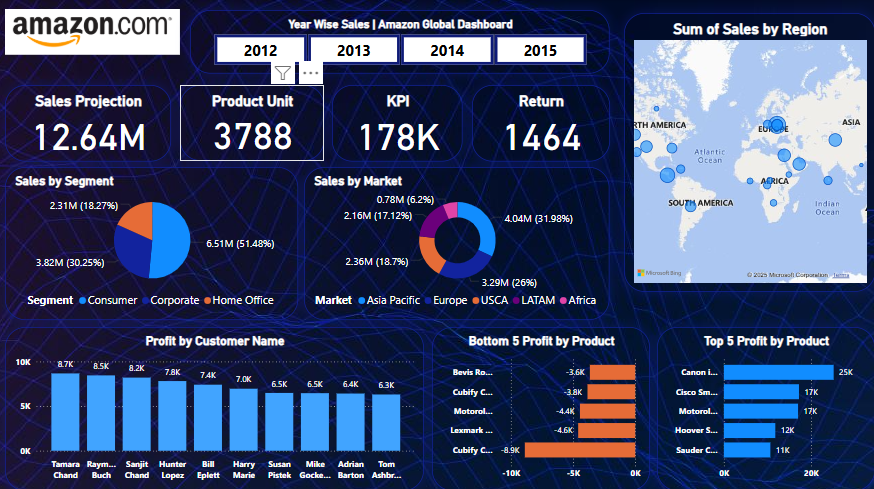

What the dashboard file says about the page in this screenshot:
{"tool":"powerbi","page":{"name":"Page 1","canvas":[1280,720],"ordinal":0},"visuals":[{"type":"image","box":[8,14.8,256.3,67.2],"z":0},{"type":"slicer","title":"Year Wise Sales | Amazon Global Dashboard","fields":{"Values":["Orders.Year"]},"box":[278,15.9,614.1,93.4],"z":1000},{"type":"card","title":"Product Unit","fields":{"Values":["Orders.Product Name"]},"box":[263.5,125.9,210.8,110.5],"z":2000},{"type":"card","title":"Sales Projection","fields":{"Values":["Orders.Sales"]},"box":[8,125.3,242.7,111.6],"z":3000},{"type":"card","title":"KPI","fields":{"Values":["Orders.Quantity"]},"box":[486.5,125.3,191.4,111.6],"z":4000},{"type":"card","title":"Return","fields":{"Values":["Orders.Ship Date"]},"box":[690.4,125.3,201.6,111.6],"z":5000},{"type":"pieChart","title":"Sales by Segment","fields":{"Category":["Orders.Segment"],"Y":["Orders.Sales"]},"box":[7.7,245.5,429.2,223.6],"z":6000},{"type":"donutChart","title":"Sales by Market","fields":{"Y":["Orders.Sales"],"Category":["Orders.Market"]},"box":[444.7,245.5,447.2,223.6],"z":7000},{"type":"columnChart","title":"Profit by Customer Name","fields":{"Category":["Orders.Customer Name"],"Y":["Orders.Profit"]},"box":[0,480.4,613.1,240.2],"z":8000},{"type":"clusteredBarChart","title":"Bottom 5 Profit by Product","fields":{"Y":["Orders.Profit"],"Category":["Orders.Product Name"]},"box":[632.3,479.6,319,240.4],"z":9000},{"type":"clusteredBarChart","title":"Top 5 Profit by Product","fields":{"Category":["Orders.Product Name"],"Y":["Orders.Profit"]},"box":[961.5,479.6,319,240.4],"z":10000},{"type":"map","fields":{"Category":["Orders.Region"],"Size":["Orders.Sales"]},"box":[912.5,20.5,368,407.8],"z":11000}]}

Visuals, with their boxes in screenshot pixels (x1, y1, x2, y2), scaled from the page's 1280x720 canvas onto the 874x489 screenshot:
image: [x1=5, y1=10, x2=180, y2=56]
"Year Wise Sales | Amazon Global Dashboard" slicer: [x1=190, y1=11, x2=609, y2=74]
"Product Unit" card: [x1=180, y1=86, x2=324, y2=161]
"Sales Projection" card: [x1=5, y1=85, x2=171, y2=161]
"KPI" card: [x1=332, y1=85, x2=463, y2=161]
"Return" card: [x1=471, y1=85, x2=609, y2=161]
"Sales by Segment" pieChart: [x1=5, y1=167, x2=298, y2=319]
"Sales by Market" donutChart: [x1=304, y1=167, x2=609, y2=319]
"Profit by Customer Name" columnChart: [x1=0, y1=326, x2=419, y2=488]
"Bottom 5 Profit by Product" clusteredBarChart: [x1=432, y1=326, x2=650, y2=488]
"Top 5 Profit by Product" clusteredBarChart: [x1=657, y1=326, x2=873, y2=488]
map - Orders.Region x Orders.Sales: [x1=623, y1=14, x2=873, y2=291]
